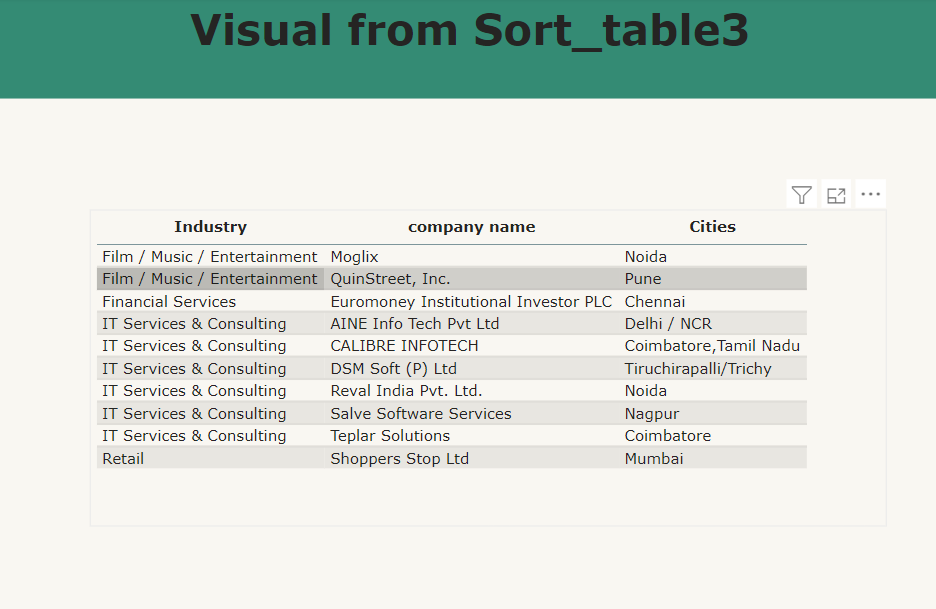

Layout of this report page (visuals, bound fields, positions):
{"tool":"powerbi","page":{"name":"Sort_table3","canvas":[1280,720],"ordinal":6},"visuals":[{"type":"tableEx","fields":{"Values":["Sort_table3.Industry","Sort_table3.company_name","Sort_table3.Cities"]},"box":[302,189.7,709.8,282.6],"z":0},{"type":"textbox","box":[0,0,1280.3,90.3],"z":1000}]}

Visuals, with their boxes on the page's 1280x720 design canvas (x1, y1, x2, y2). These are canvas units, not pixel positions in the 936x609 screenshot, which may show the page scaled, cropped or inside an application window:
tableEx - Sort_table3.Industry x Sort_table3.company_name: box=[302, 190, 1012, 472]
textbox: box=[0, 0, 1280, 90]
